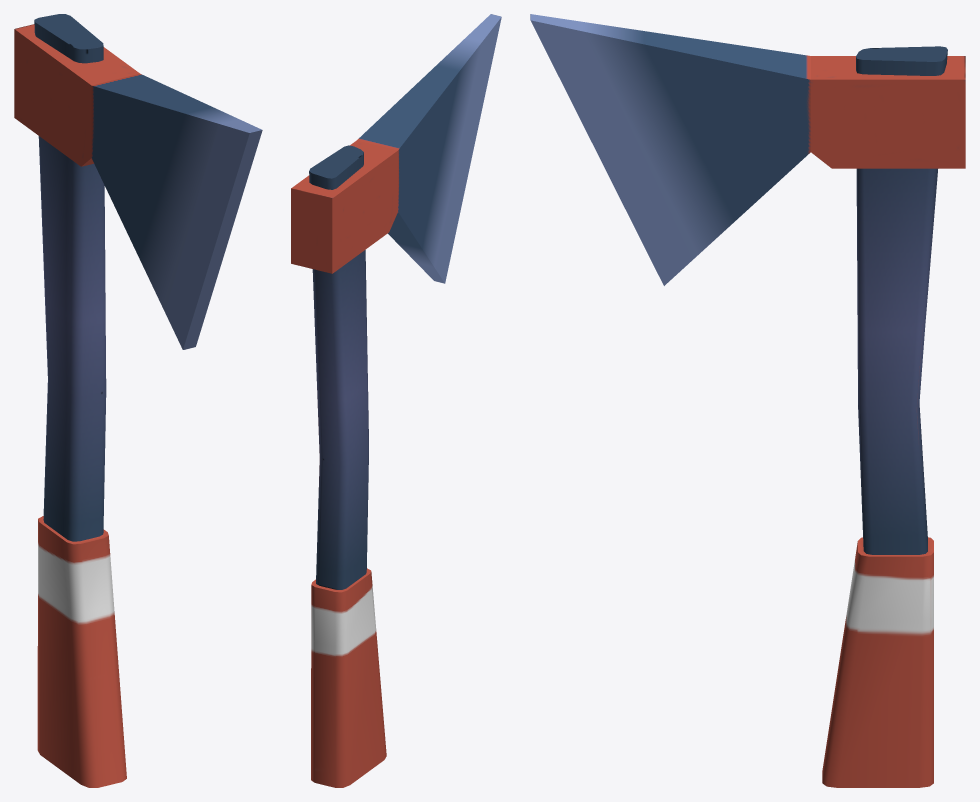
Rendered from Axe_Modern.fbx.
The picture shows the model from 3 angles, left to right: view 1: azimuth 30°, elevation 25°; view 2: azimuth 150°, elevation 25°; view 3: azimuth 270°, elevation 25°; orthographic projection. The views are drawn at different scales.
Parts seen in each view (by area): view 1: axe_modern, axe_modern.002, axe_modern.001; view 2: axe_modern, axe_modern.002, axe_modern.001; view 3: axe_modern, axe_modern.002, axe_modern.001.
Part boxes in pixels (left/top/right/bottom): axe_modern: left=14, top=24, right=262, bottom=349; axe_modern.002: left=34, top=14, right=106, bottom=541; axe_modern.001: left=37, top=516, right=126, bottom=787; axe_modern: left=291, top=14, right=501, bottom=283; axe_modern.002: left=309, top=145, right=368, bottom=589; axe_modern.001: left=311, top=568, right=386, bottom=787; axe_modern: left=530, top=14, right=965, bottom=285; axe_modern.002: left=856, top=46, right=947, bottom=554; axe_modern.001: left=822, top=537, right=933, bottom=787.
Size of the model in its own units: 4.38 by 65.35 by 33.9.
